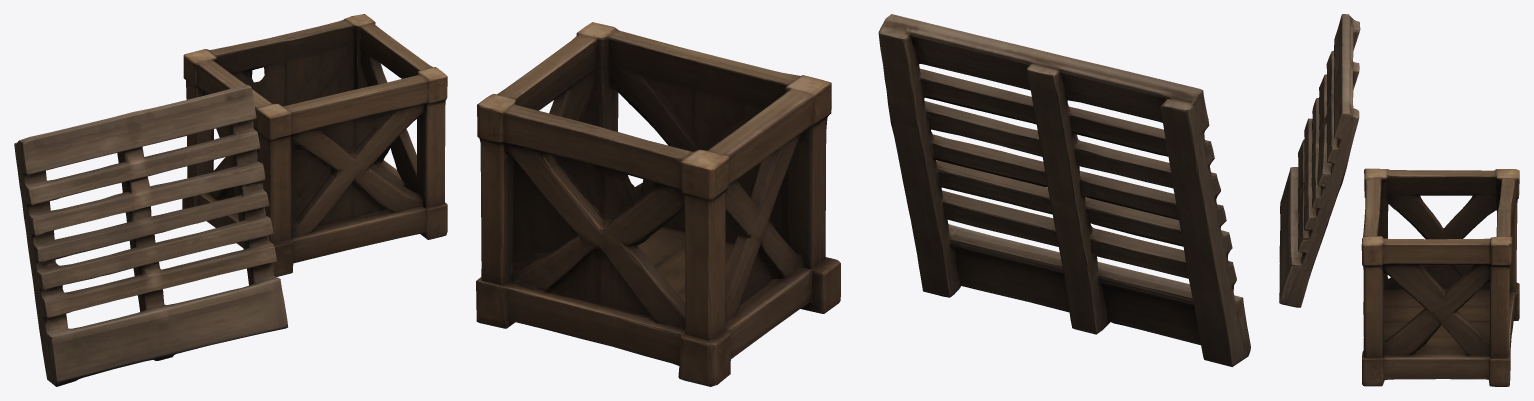
Rendered from pallet_crate.glb.
The picture shows the model from 3 angles, left to right: view 1: azimuth 30°, elevation 25°; view 2: azimuth 150°, elevation 25°; view 3: azimuth 270°, elevation 25°; orthographic projection. The views are drawn at different scales.
Parts seen in each view (by area): view 1: geometry_0; view 2: geometry_0; view 3: geometry_0.
Boxes of the visible parts, x1,y1,x2,y2 form: geometry_0: (14,14,447,386); geometry_0: (476,14,1250,386); geometry_0: (1279,14,1519,386).
Size of the model in its own units: 0.999 by 0.4809 by 0.5357.
1 material, 1 textured.
